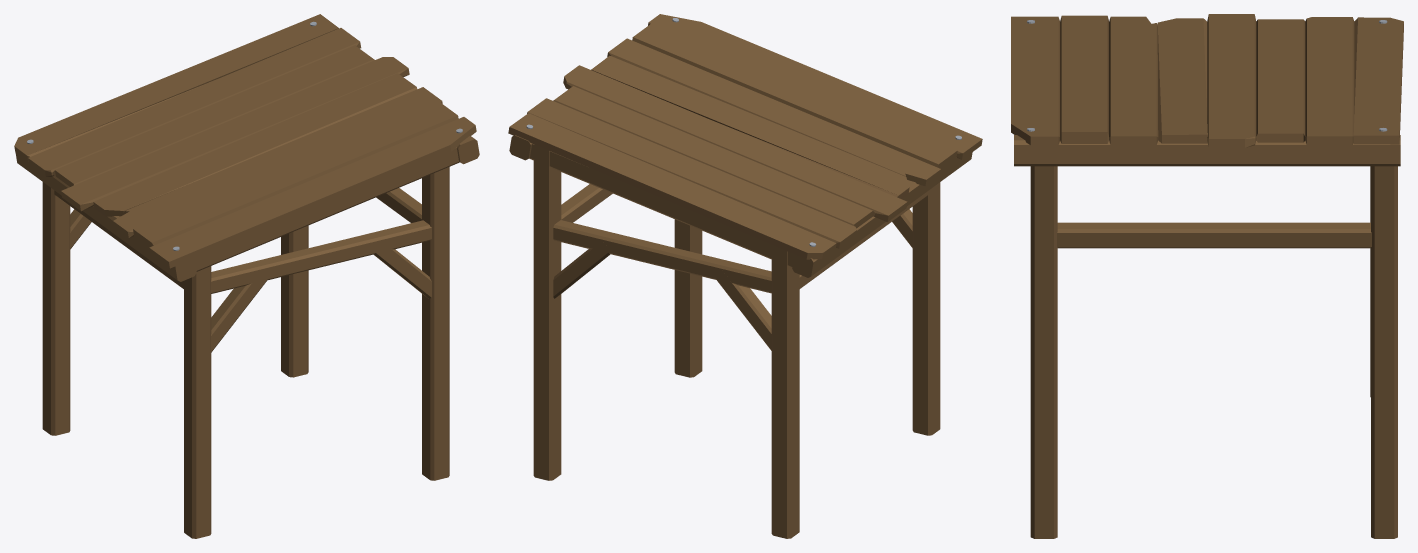
Rendered from Cover thin 2.fbx.
3 views of the same model, side by side, from view 1: azimuth 30°, elevation 25°; view 2: azimuth 150°, elevation 25°; view 3: azimuth 270°, elevation 25° (orthographic). The views are drawn at different scales.
Visible parts, largest first — view 1: Cover 2 thin; view 2: Cover 2 thin; view 3: Cover 2 thin.
Boxes of the visible parts, left/top/right/bottom form: Cover 2 thin: left=14, top=14, right=479, bottom=538; Cover 2 thin: left=508, top=14, right=982, bottom=538; Cover 2 thin: left=1011, top=14, right=1403, bottom=538.
Size of the model in its own units: 3.66 by 3.68 by 3.13.
